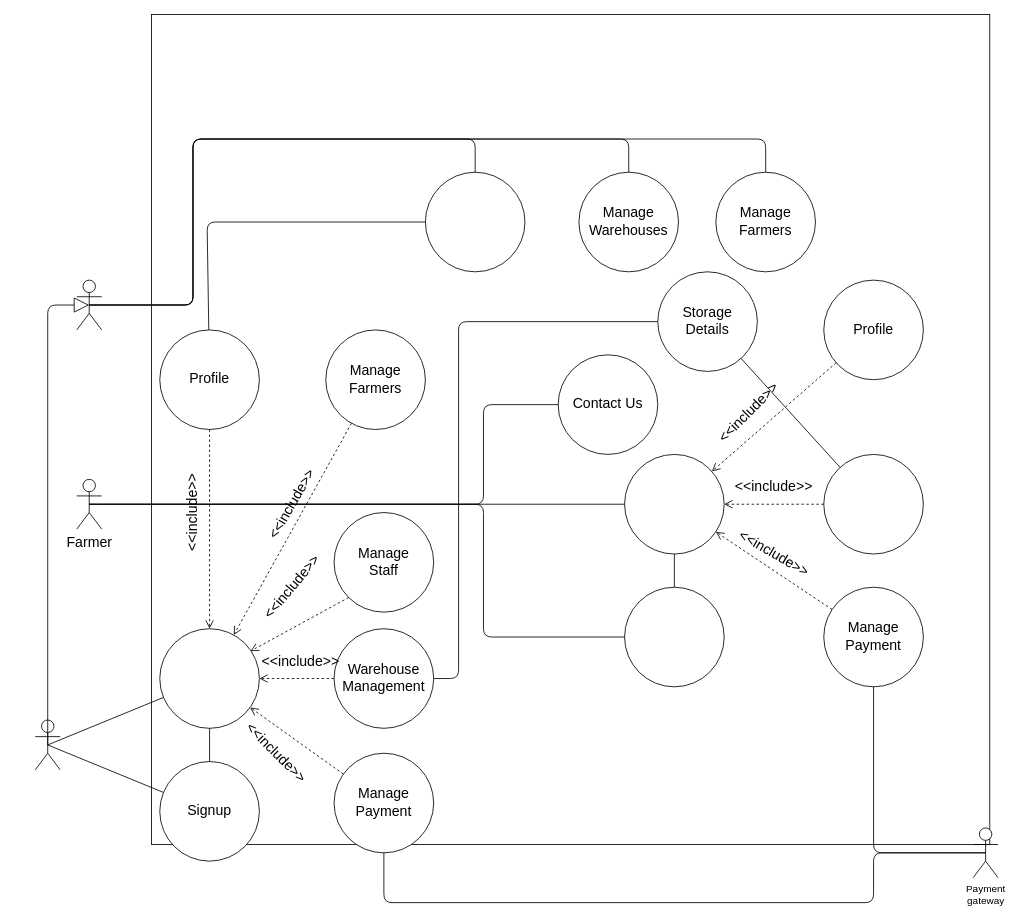
Image size: 1019x922. Some labels were removed from this diagram. The shapes that lost their labels are listed below. From the top down, each one's box as (x1, y1, x2, y2) in pixels, then its label:
(425, 171, 525, 272): Manage Supervisors
(76, 279, 102, 330): Admin
(624, 454, 724, 554): login
(823, 454, 923, 554): View Crop Details
(624, 586, 724, 687): Register
(159, 628, 259, 728): Signin
(34, 719, 60, 770): Supervisor
